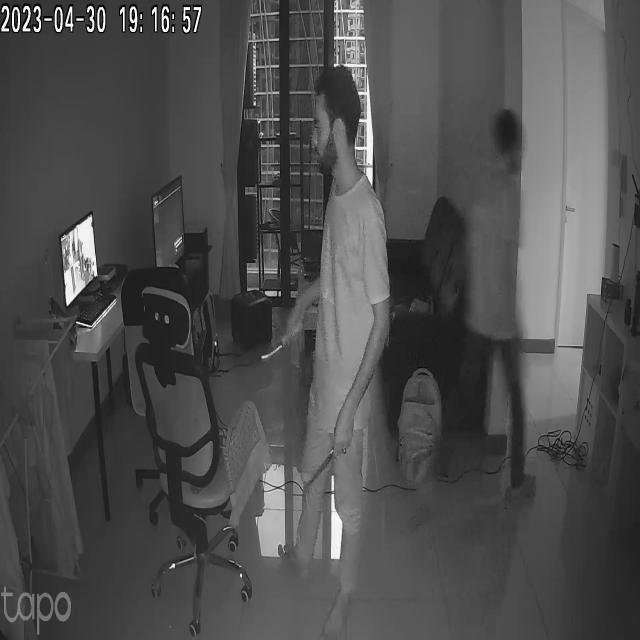Knife: (289, 438, 354, 497), (248, 324, 298, 364)
